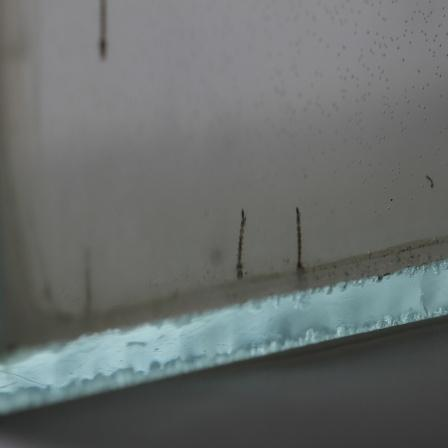Jentik-Nyamuk: (289, 204, 307, 275), (232, 208, 249, 281)
